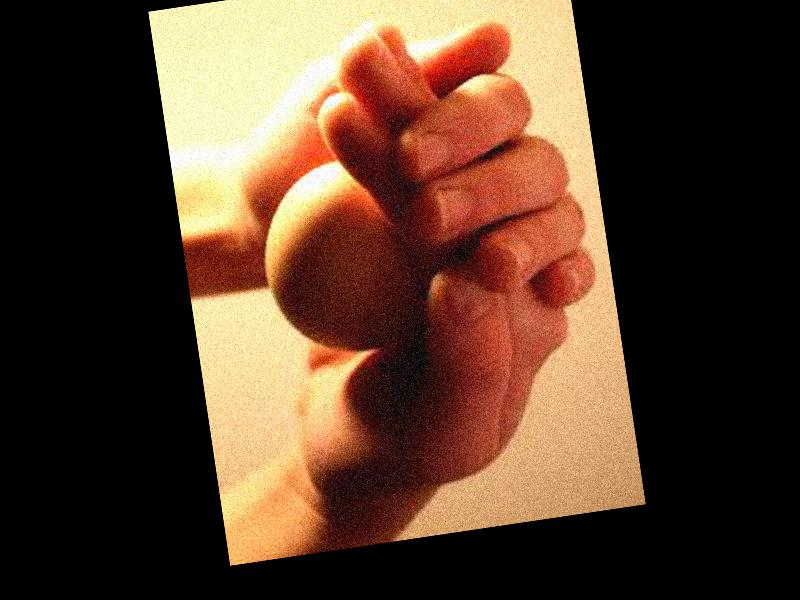Eggs: (251, 152, 425, 365)
